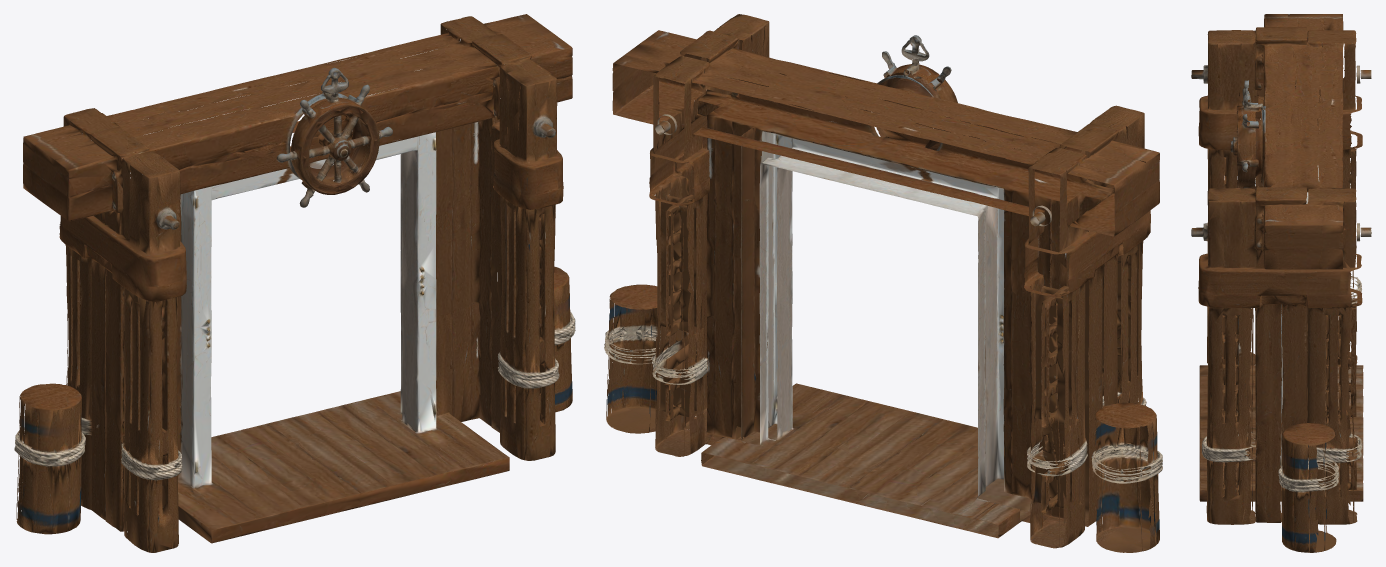
Rendered from pier_gate.glb.
The picture shows the model from 3 angles, left to right: view 1: azimuth 30°, elevation 25°; view 2: azimuth 150°, elevation 25°; view 3: azimuth 270°, elevation 25°; orthographic projection. The views are drawn at different scales.
Bounding box in the file's own units: 1.9 × 1.38 × 0.6288.
Materials: 1 (1 with a texture image).
